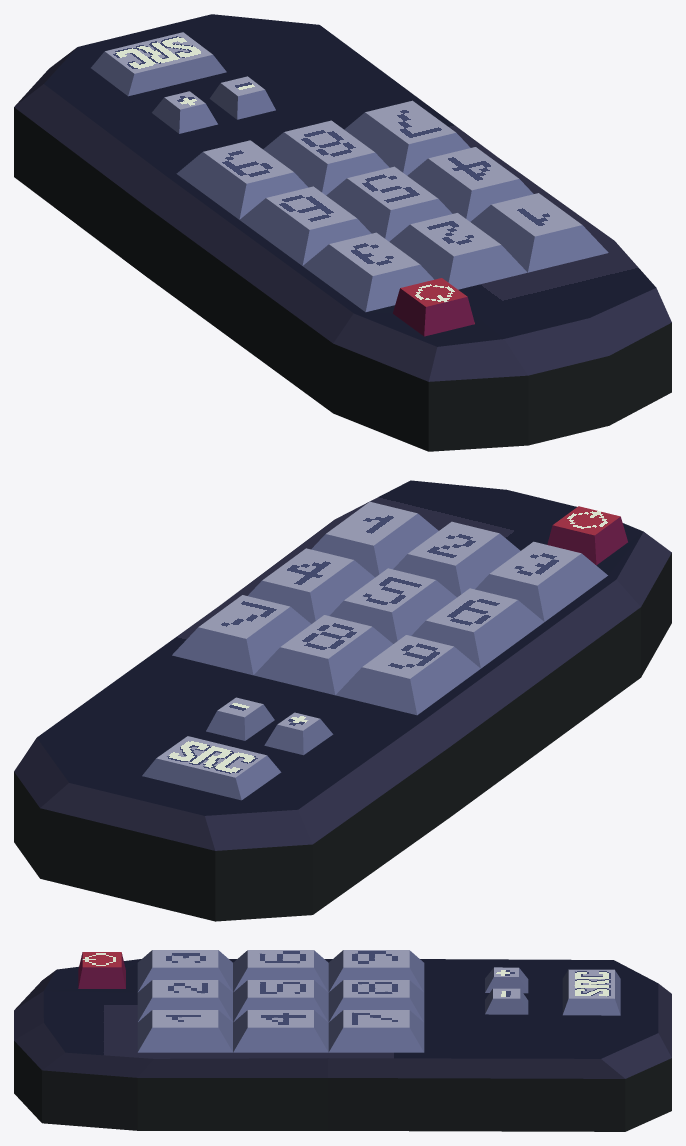
The model's file is RemoteControl.glb.
The picture shows the model from 3 angles, top to bottom: view 1: azimuth 30°, elevation 25°; view 2: azimuth 150°, elevation 25°; view 3: azimuth 270°, elevation 25°; orthographic projection. The views are drawn at different scales.
Visible parts, largest first — view 1: RemoteControl; view 2: RemoteControl; view 3: RemoteControl.
Part boxes in pixels (x1=…): RemoteControl: x1=14, y1=14, x2=671, y2=451; RemoteControl: x1=14, y1=480, x2=671, y2=921; RemoteControl: x1=14, y1=950, x2=671, y2=1131.
Bounding box in the file's own units: 0.1825 × 0.0697 × 0.4594.
Materials: 1 (1 with a texture image).
